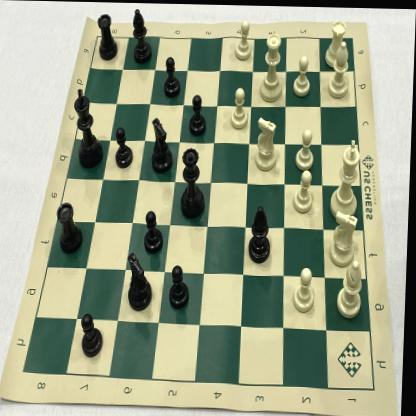black-bishop: (247, 203, 275, 267), (131, 8, 155, 67)
black-king: (70, 83, 106, 168)
black-knight: (126, 244, 156, 315), (149, 114, 177, 176)
black-pawn: (81, 310, 109, 359), (170, 261, 194, 313), (144, 205, 168, 255), (114, 125, 137, 170), (162, 53, 184, 100), (188, 91, 209, 137)
black-queen: (180, 141, 209, 221)
black-rook: (55, 199, 86, 261), (95, 10, 121, 64)
white-bishop: (335, 258, 369, 320), (327, 36, 354, 100)
white-king: (330, 134, 365, 222)
white-knight: (331, 208, 359, 268), (256, 114, 280, 171)
white-pawn: (294, 264, 322, 313), (292, 168, 318, 215), (232, 16, 255, 63), (294, 125, 317, 172), (229, 86, 252, 131), (292, 51, 313, 98)
white-queen: (258, 29, 288, 104)
white-rook: (323, 15, 350, 70)
